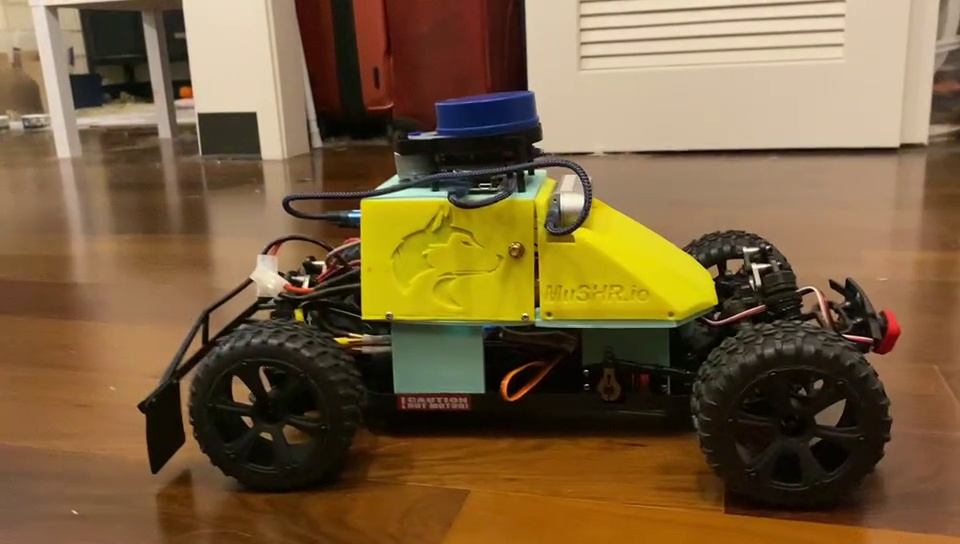mushr_car: (121, 88, 906, 516)
